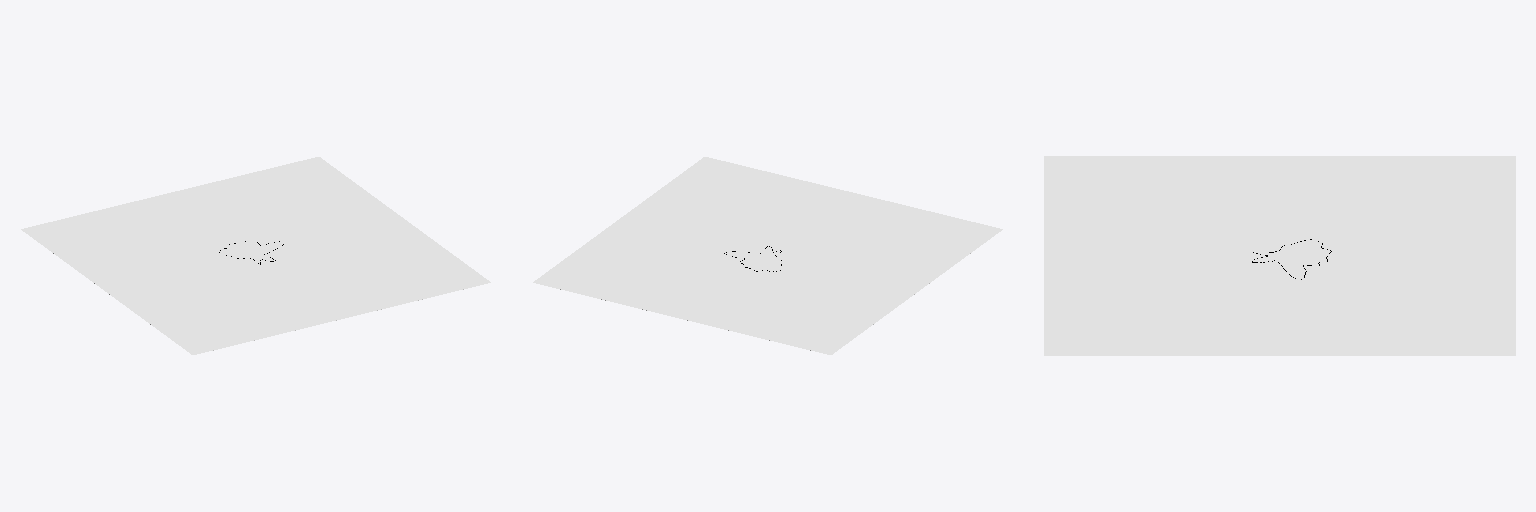
The robot description file, URDF, robot "world":
<robot name="world">
 
	<link name="plane">

   		<inertial>
		    <origin rpy="0 0 0" xyz="0 0 0" />
            <mass value="0.0" />
            <inertia ixx="0.0" ixy="0.0" ixz="0.0" iyy="0.0" iyz="0.0" izz="0.0" />
        </inertial>

    	<visual>
      		<geometry>
        		<box size="10.0 10.0 0.001" />
      		</geometry>

			<material name="plane_color">
        		<color rgba="1 1 1 1" />
      		</material>
       	
			<origin rpy="0 0 0" xyz="0 0 0" />
		</visual>

		<contact>
		 	<lateral_friction value="1" />
			<stiffness value="300000" />
          	<damping value="1000" />
  		</contact>

  		<collision>
			<geometry>
        		<box size="10.0 10.0 0.01" />
      		</geometry>
          <origin rpy="0 0 0" xyz="0 0 0" />
        </collision>
  
	</link>


	<link name="line">

   		<inertial>
		    <origin rpy="0 0 0" xyz="0 0 0" />
            <mass value="0.0" />
            <inertia ixx="0.0" ixy="0.0" ixz="0.0" iyy="0.0" iyz="0.0" izz="0.0" />
        </inertial>

    	<visual>
      		<geometry>
				<mesh filename="./models_tracks/9.obj" scale="1 1 1" />
      		</geometry>
       		
			<material name="line_color">
        		<color rgba="0 0 0 1" />
      		</material>
	    
			<origin rpy="0 0 0" xyz="0 0 0.001" />
		</visual>
    
	</link>


  	<joint name="plane_line" type="fixed">
		<parent link="plane" />
		<child link="line" />
        <origin rpy="0 0 0" xyz="0.0 0.0 0.0" />
 	</joint>

</robot>

--- What the picture shows (computed from the rendered views, not written in the file) ---
The picture shows the robot from 3 angles, left to right: view 1: azimuth 30°, elevation 25°; view 2: azimuth 150°, elevation 25°; view 3: azimuth 270°, elevation 25°; orthographic projection.
Robot: world — 2 links, 1 joints (1 fixed); root link plane; default pose: all joints at 0.
Visible links, largest first — view 1: plane; view 2: plane; view 3: plane.
Boxes of the visible links, left/top/right/bottom form: plane: left=21, top=157, right=490, bottom=354; plane: left=533, top=157, right=1002, bottom=354; plane: left=1044, top=156, right=1515, bottom=355.
Size in the robot's own frame: 10 by 10 by 0.0015 metres.
1 mesh visuals loaded from 1 distinct referenced files (1 OBJ).
